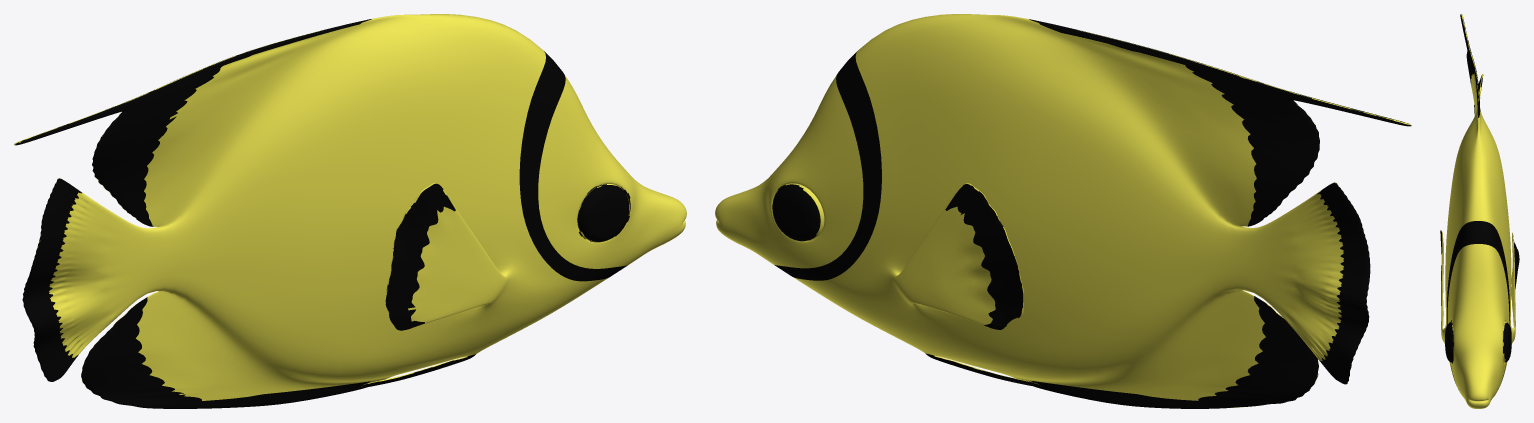
The model's file is butflysh.gltf.
3 renders of one model, left to right at view 1: azimuth 30°, elevation 25°; view 2: azimuth 150°, elevation 25°; view 3: azimuth 270°, elevation 25°, orthographic. The views are drawn at different scales.
Visible parts, largest first — view 1: Default-13003_Auriga_Butterflyfish, Default-Mat (×6); view 2: Default-13003_Auriga_Butterflyfish, Default-Mat (×6); view 3: Default-13003_Auriga_Butterflyfish, Default-Mat (×4).
Boxes of the visible parts, x1,y1,x2,y2 form: Default-13003_Auriga_Butterflyfish: (14,14,686,400); Default-Mat (×6): (14,19,630,408); Default-13003_Auriga_Butterflyfish: (715,14,1411,407); Default-Mat (×6): (772,19,1411,408); Default-13003_Auriga_Butterflyfish: (1440,14,1515,408); Default-Mat (×4): (1440,14,1519,389).
Bounding box in the file's own units: 25.06 × 12.9 × 3.75.
